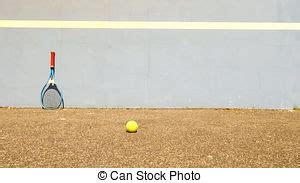tennis_ball: (125, 120, 138, 134)
